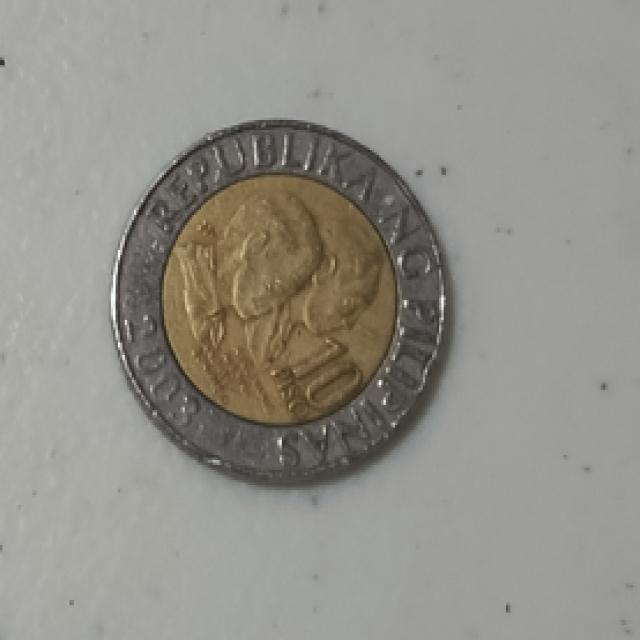10_peso: (113, 122, 444, 480)
